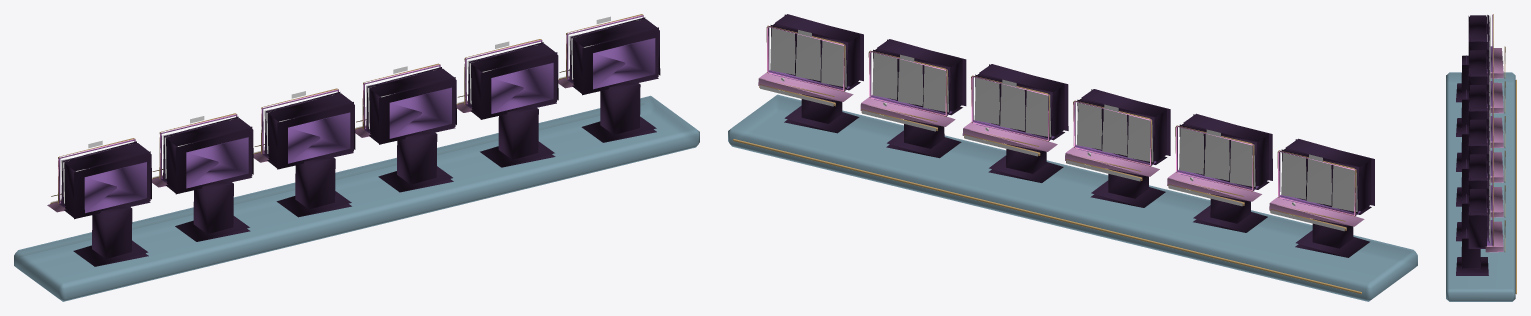
The model's file is threshold-slot-row-lod1.glb.
3 renders of one model, left to right at view 1: azimuth 30°, elevation 25°; view 2: azimuth 150°, elevation 25°; view 3: azimuth 270°, elevation 25°, orthographic. The views are drawn at different scales.
Visible parts, largest first — view 1: frame; view 2: frame; view 3: frame.
Part boxes in pixels (x1=…): frame: x1=14, y1=14, x2=699, y2=301; frame: x1=728, y1=14, x2=1417, y2=301; frame: x1=1446, y1=14, x2=1516, y2=301.
Bounding box in the file's own units: 12.3 × 2.2 × 1.68.
